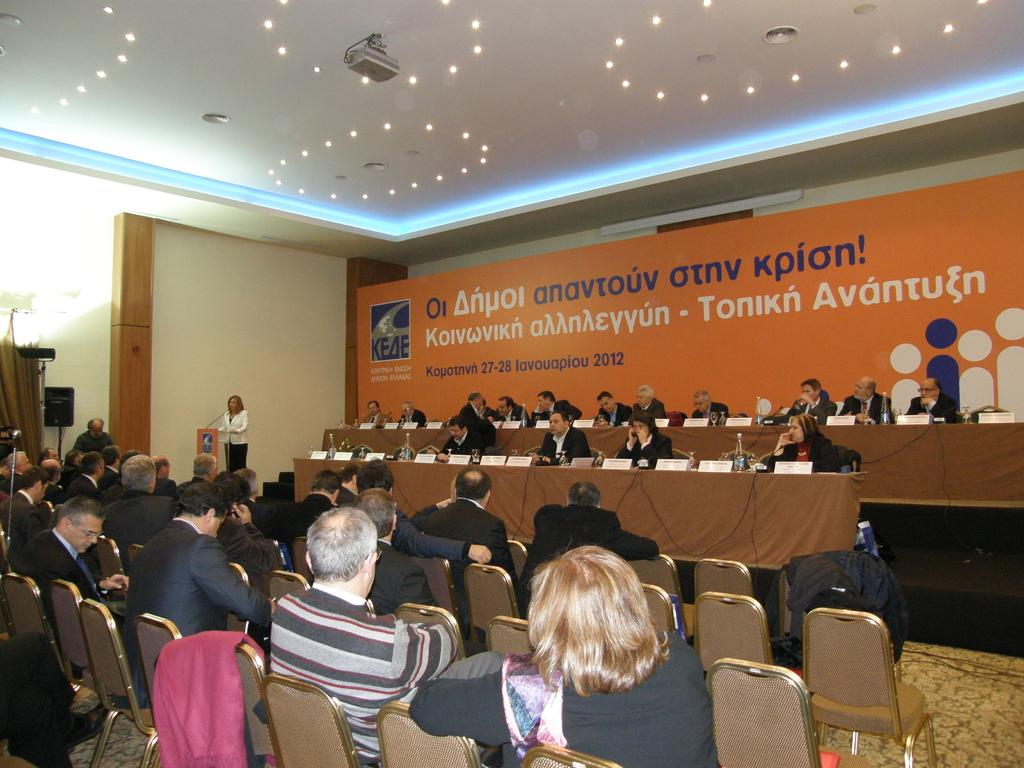Chair: (801, 606, 935, 767), (77, 598, 157, 767), (260, 672, 360, 767), (375, 700, 481, 767), (463, 563, 519, 643), (393, 602, 466, 662), (520, 742, 623, 767), (485, 615, 533, 655)
